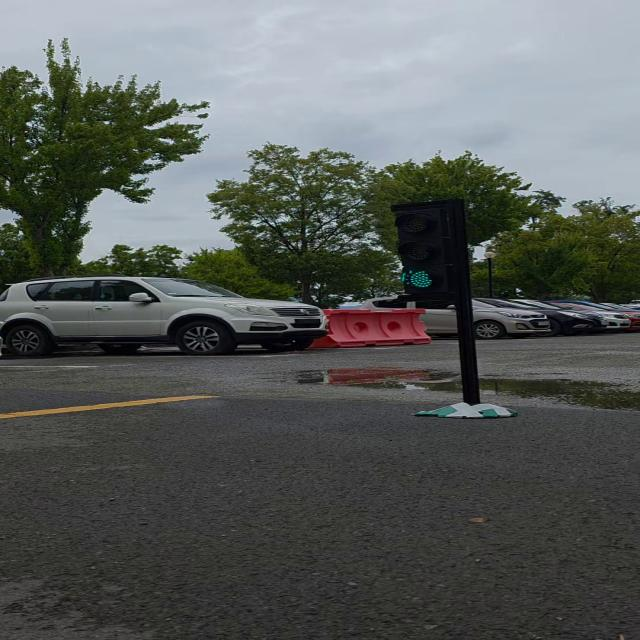green: (384, 198, 471, 301)
